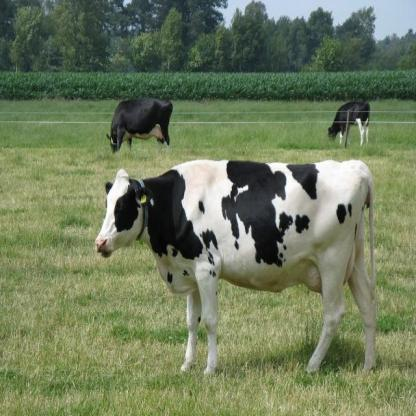cow: (98, 159, 377, 375), (108, 97, 172, 154), (329, 102, 372, 144)
